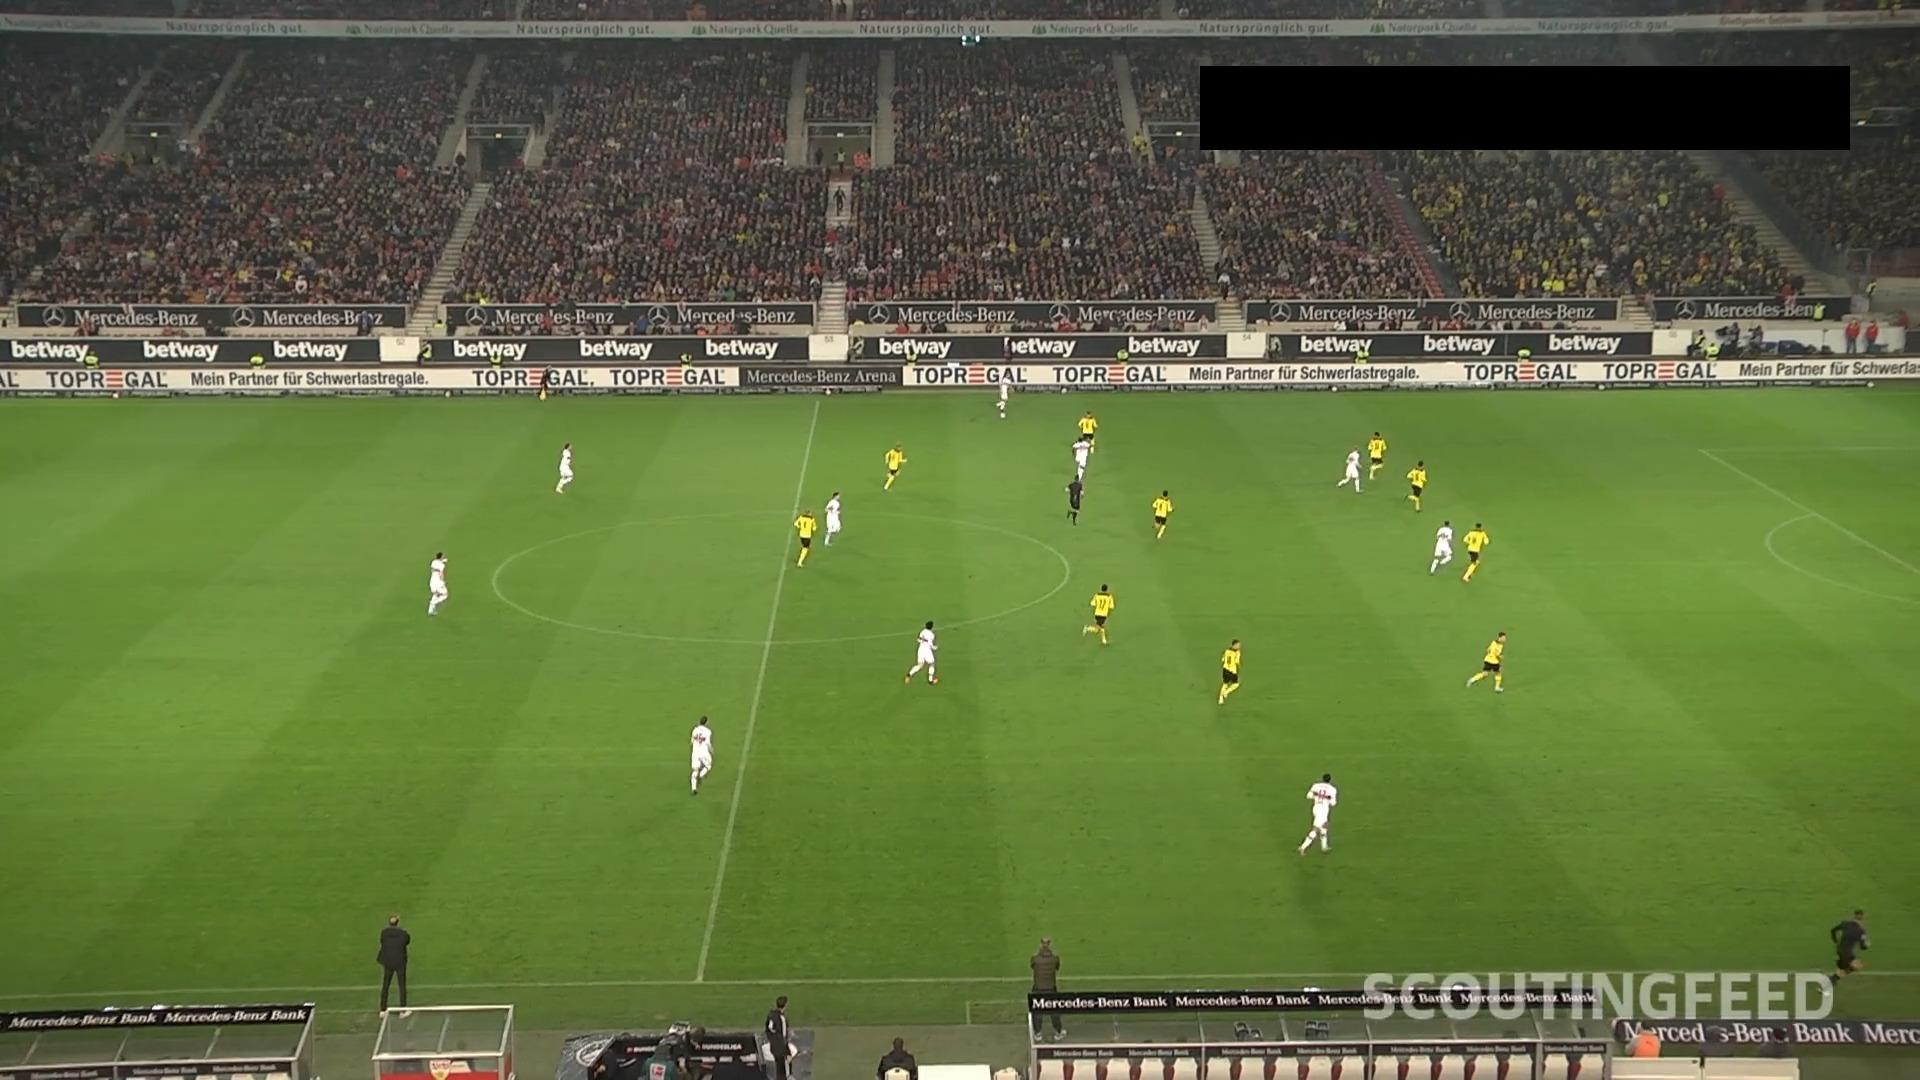ball: (998, 411, 1007, 421)
